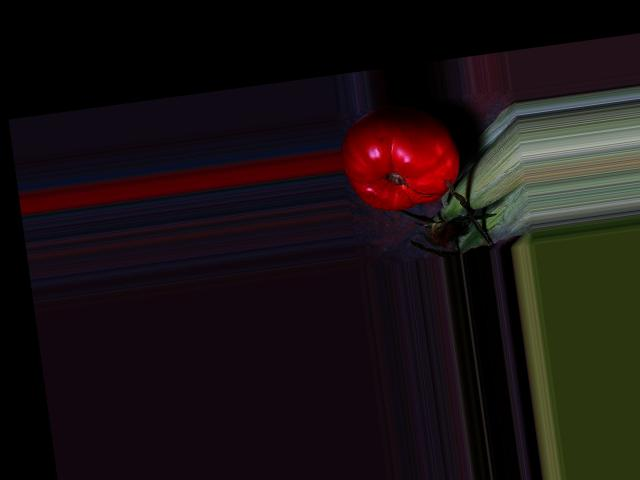tomato: (336, 97, 465, 216)
